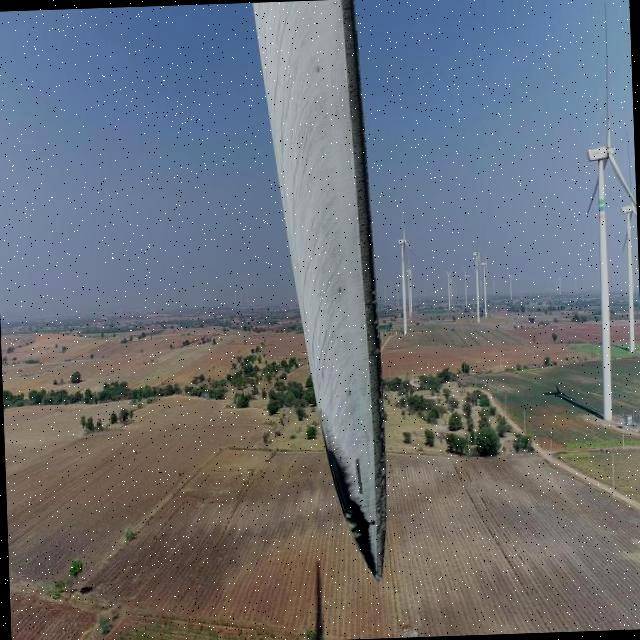Dirt: (255, 3, 387, 579)
Oil LEAKAGE: (323, 447, 384, 583)
Pin Hole: (310, 62, 326, 78), (367, 518, 380, 529), (346, 387, 355, 399), (336, 286, 345, 296)
